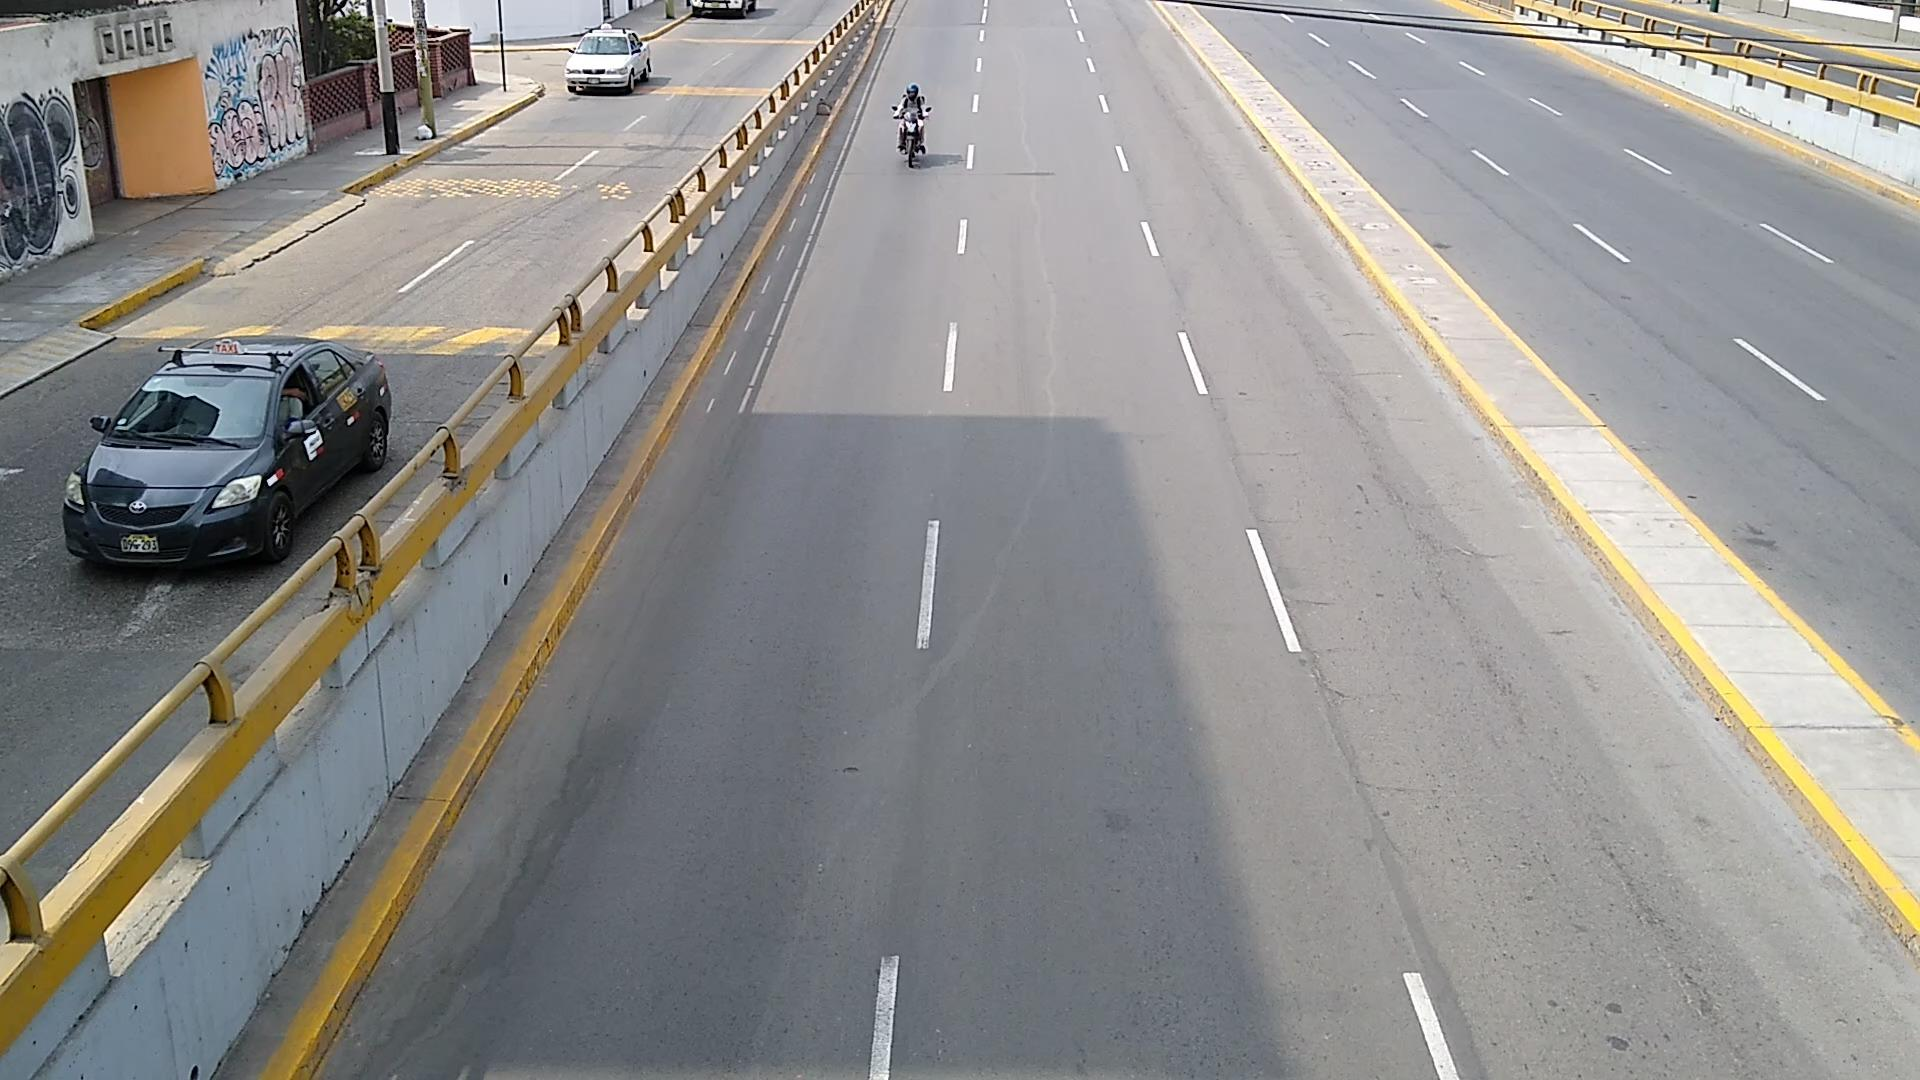car: (63, 338, 390, 570), (562, 30, 651, 94)
motorcyclist: (893, 83, 930, 169)
